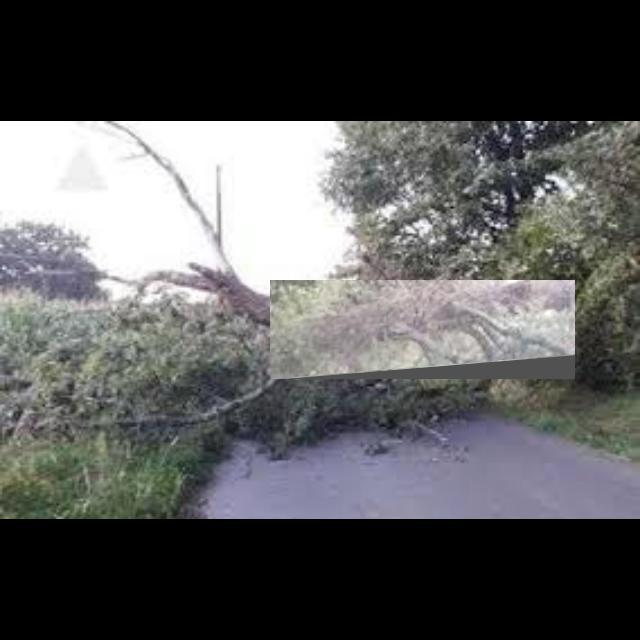fallen_tree: (270, 280, 576, 380)
